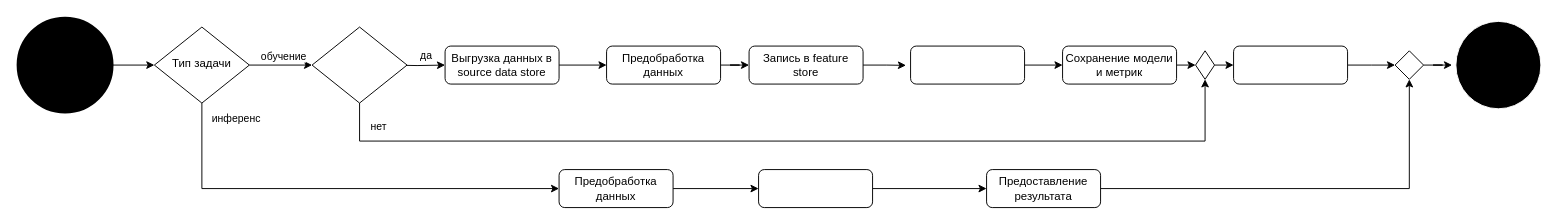
This 1561x224 diagram has some shape labels left out. Here are the shapes that lost their labels. From the top down, the box of each, then its label:
(311, 26, 407, 103): Новые данные
(910, 45, 1025, 84): Обучение моделей
(1233, 45, 1348, 84): Развертывание оптимальной модели
(758, 169, 873, 208): Запуск модели
